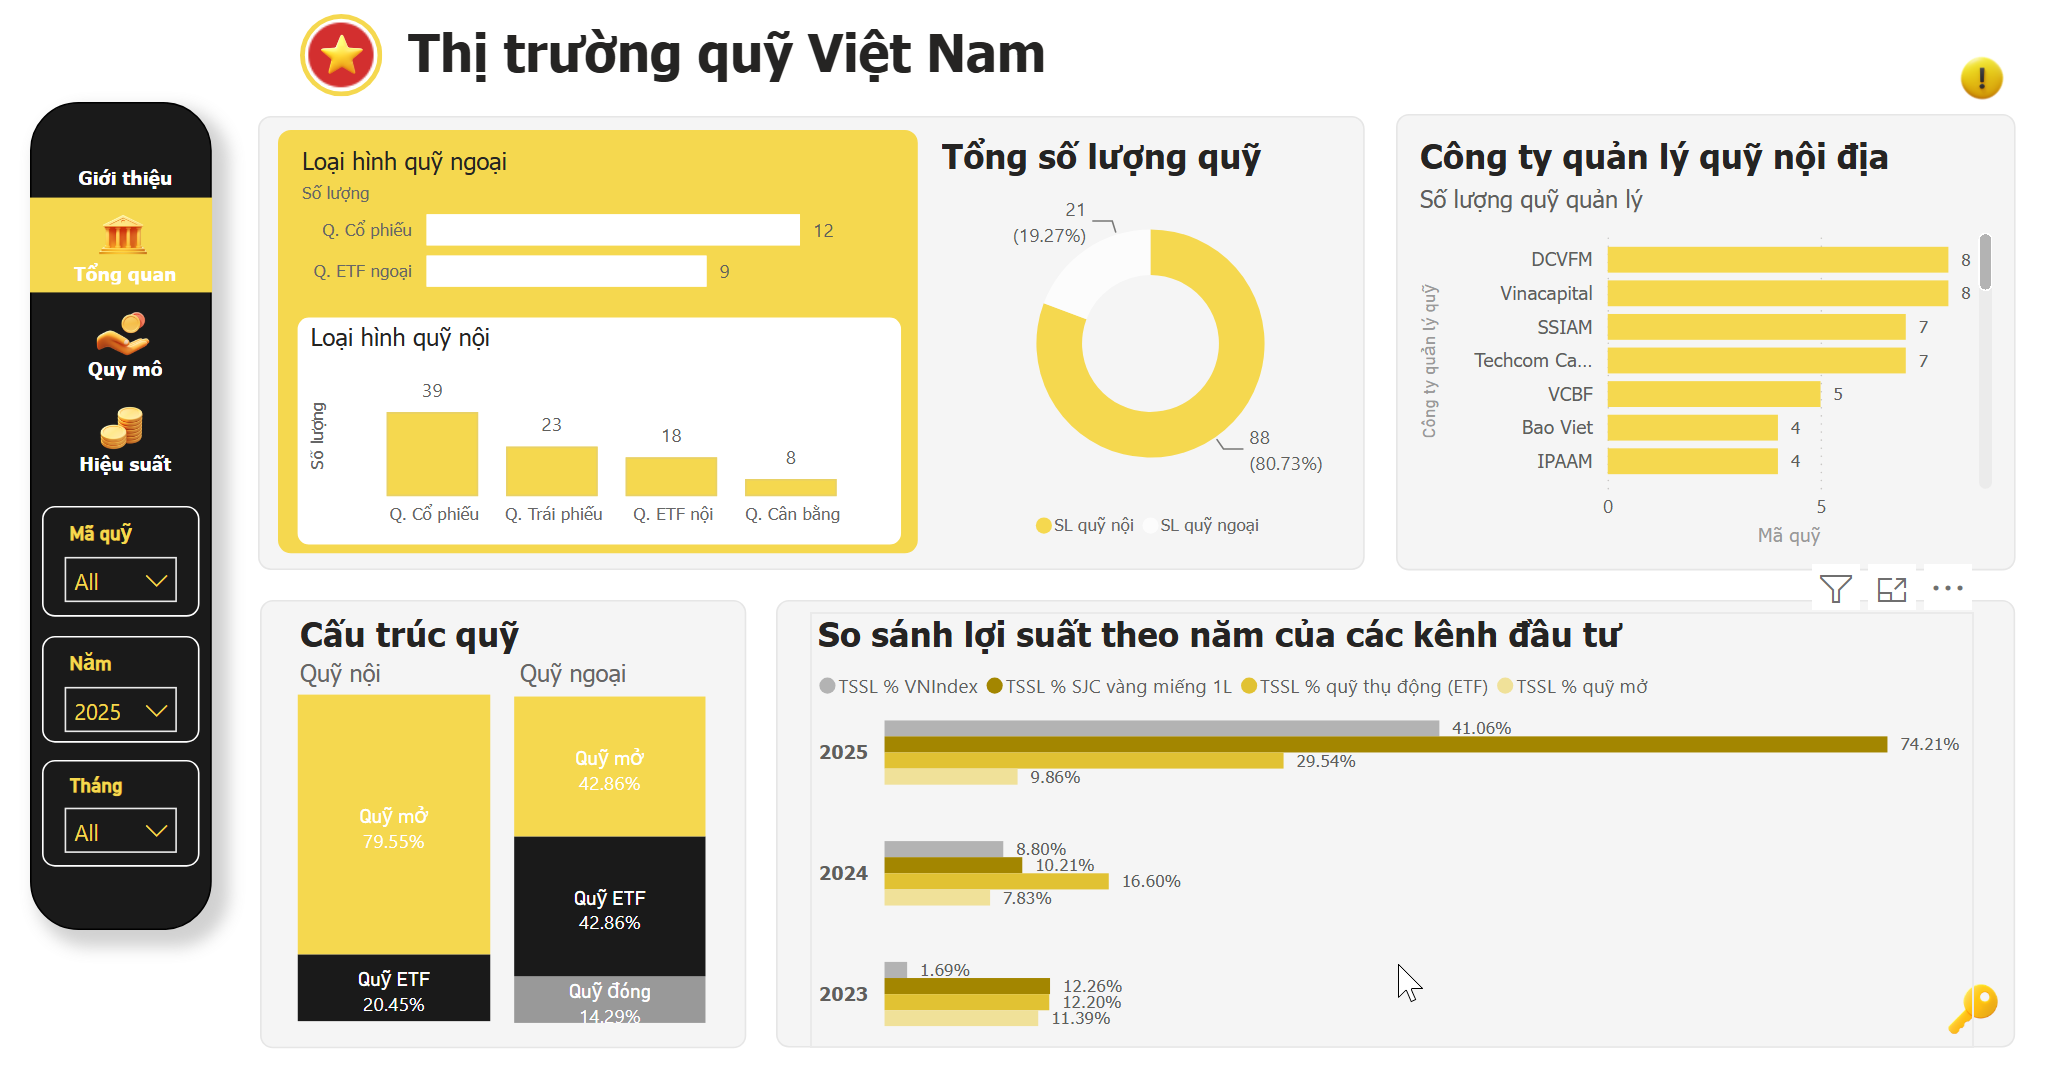

Layout of this report page (visuals, bound fields, positions):
{"tool":"powerbi","page":{"name":"Tổng quan","canvas":[1280,720],"ordinal":1},"visuals":[{"type":"textbox","box":[0,0,1279.7,37.8],"z":0},{"type":"textbox","box":[22.3,106.5,112.6,512.5],"z":1000},{"type":"textbox","box":[163.5,114.9,685.1,281.1],"z":2000},{"type":"textbox","box":[868,114,383.5,282.4],"z":3000},{"type":"textbox","box":[164.4,414.1,301.2,277.3],"z":4000},{"type":"textbox","box":[484.5,414.6,767,277.2],"z":5000},{"type":"textbox","box":[176,124,396,262],"z":7000},{"type":"shape","box":[21.6,16.2,13.5,14.9],"z":8000},{"type":"shape","box":[37.8,16.2,13.5,14.9],"z":9000},{"type":"shape","box":[55.1,16.3,14.3,14.3],"z":10000},{"type":"donutChart","title":"Tổng số lượng quỹ ","fields":{"Y":["_Measure.Total Domestic Funds","_Measure.Total Offshore Funds"]},"box":[582,126,268,260],"z":11000},{"type":"clusteredBarChart","title":"Công ty quản lý quỹ nội địa","fields":{"Category":["Quỹ nội.Fund_Management_Company"],"Y":["_Measure.Total Domestic Funds"]},"box":[878,126,364,260],"z":12000},{"type":"clusteredColumnChart","title":"Loại hình quỹ nội","fields":{"Category":["Quỹ nội.Fund_Type"],"Y":["_Measure.Total Domestic Funds"]},"box":[186.6,238.4,375.7,142.5],"z":13000},{"type":"clusteredBarChart","title":"Loại hình quỹ ngoại","fields":{"Category":["Quỹ ngoại.Fund_Type"],"Y":["_Measure.Total Offshore Funds"]},"box":[186,140,376,110],"z":14000},{"type":"hundredPercentStackedColumnChart","title":"Domestic Funds ","fields":{"Series":["Quỹ nội.Fund_Structure"],"Y":["_Measure.Total Domestic Funds"]},"box":[28.9,459.3,446.7,217.1],"z":15000},{"type":"hundredPercentStackedColumnChart","title":"Offshore Funds ","fields":{"Y":["_Measure.Total Offshore Funds"],"Series":["Quỹ ngoại.Fund_Structure"]},"box":[164,466,444,212],"z":16000},{"type":"textbox","title":"Cấu trúc quỹ","box":[184,422.3,300.6,31.1],"z":17000},{"type":"textbox","box":[184,446,140,32],"z":18000},{"type":"textbox","box":[320,446,124,32],"z":19000},{"type":"textbox","box":[1140,442,100,226],"z":20000},{"type":"textbox","box":[251.1,51.1,480,60],"z":21000},{"type":"slicer","fields":{"Values":["Data.Fund_Code"]},"box":[29.1,357,97.5,68.4],"z":22000},{"type":"slicer","fields":{"Values":["Data.Year"]},"box":[29.1,436.7,97.5,65.8],"z":23000},{"type":"slicer","fields":{"Values":["Data.Month"]},"box":[29.1,513.9,97.5,65.8],"z":24000},{"type":"textbox","box":[185.7,128.7,297.1,61.9],"z":25000},{"type":"shape","box":[189,52,51,51],"z":26000},{"type":"pageNavigator","box":[22.3,106.5,113.9,238.9],"z":27000},{"type":"image","box":[182,48.3,65.6,58.2],"z":28000},{"type":"image","box":[56.9,226.5,45.8,44.6],"z":29000},{"type":"image","box":[55.7,287.2,47,40.9],"z":30000},{"type":"image","box":[191.9,56.9,47,39.6],"z":31000},{"type":"image","box":[56.9,168.4,45.8,40.9],"z":32000},{"type":"image","box":[1200,643.8,51.2,47.5],"z":33000},{"type":"clusteredBarChart","title":"So sánh lợi suất theo năm của các kênh đầu tư","fields":{"Category":["Benchmark_All.Year"],"Y":["Avg(Benchmark_All.Return YTD VNIndex)","Avg(Benchmark_All.Return YTD Gold)","Benchmark_All.1. Return Year ETF maxmonth","Benchmark_All.1. Return Year Quỹ mở (MaxMonth)"]},"box":[505.3,422.3,720.3,269.5],"z":34000},{"type":"actionButton","box":[1210.7,71.8,39.6,39.6],"z":35000},{"type":"pieChart","fields":{"Y":["CountNonNull(Data quỹ nội.1. ID)"]},"box":[1210,72.6,41.5,38.9],"z":37000}]}

Visuals, with their boxes on the page's 1280x720 design canvas (x1, y1, x2, y2). These are canvas units, not pixel positions in the 2056x1090 screenshot, which may show the page scaled, cropped or inside an application window:
textbox: (0,0,1280,38)
textbox: (22,106,135,619)
textbox: (164,115,849,396)
textbox: (868,114,1252,396)
textbox: (164,414,466,691)
textbox: (484,415,1252,692)
textbox: (176,124,572,386)
shape: (22,16,35,31)
shape: (38,16,51,31)
shape: (55,16,69,31)
"Tổng số lượng quỹ " donutChart: (582,126,850,386)
"Công ty quản lý quỹ nội địa" clusteredBarChart: (878,126,1242,386)
"Loại hình quỹ nội" clusteredColumnChart: (187,238,562,381)
"Loại hình quỹ ngoại" clusteredBarChart: (186,140,562,250)
"Domestic Funds " hundredPercentStackedColumnChart: (29,459,476,676)
"Offshore Funds " hundredPercentStackedColumnChart: (164,466,608,678)
"Cấu trúc quỹ" textbox: (184,422,485,453)
textbox: (184,446,324,478)
textbox: (320,446,444,478)
textbox: (1140,442,1240,668)
textbox: (251,51,731,111)
slicer - Data.Fund_Code: (29,357,127,425)
slicer - Data.Year: (29,437,127,502)
slicer - Data.Month: (29,514,127,580)
textbox: (186,129,483,191)
shape: (189,52,240,103)
pageNavigator: (22,106,136,345)
image: (182,48,248,106)
image: (57,226,103,271)
image: (56,287,103,328)
image: (192,57,239,96)
image: (57,168,103,209)
image: (1200,644,1251,691)
"So sánh lợi suất theo năm của các kênh đầu tư" clusteredBarChart: (505,422,1226,692)
actionButton: (1211,72,1250,111)
pieChart - CountNonNull(Data quỹ nội.1. ID): (1210,73,1252,112)
